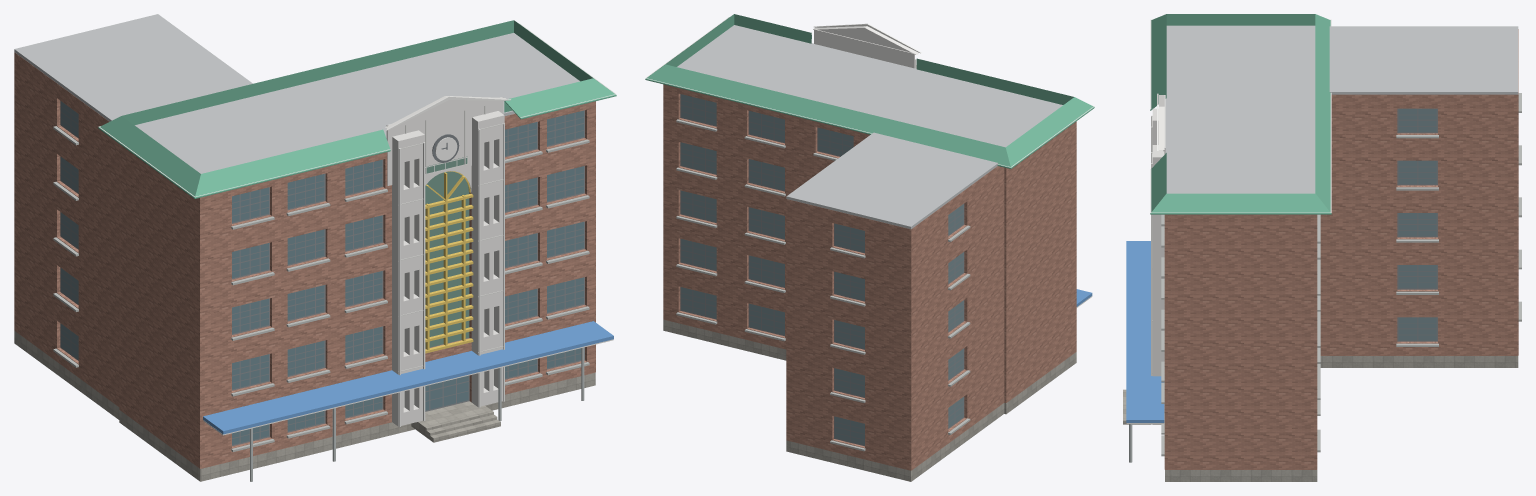
The picture shows the model from 3 angles, left to right: view 1: azimuth 30°, elevation 25°; view 2: azimuth 150°, elevation 25°; view 3: azimuth 270°, elevation 25°; orthographic projection. The views are drawn at different scales.
Visible parts, largest first — view 1: main__brick, main__roof, main__glass, main__panel, main__canopy, main__frame, main__blue, main__stone, main__cap, main__sill, main__yellow, main__clerestoryglass (+5 smaller); view 2: main__brick, main__roof, main__sideglass, main__canopy, main__frame, main__stone, main__sill, main__panel, main__cap; view 3: main__brick, main__roof, main__canopy, main__blue, main__sideglass, main__stone, main__sill, main__panel, main__frame, main__cap.
Boxes of the visible parts, x1=… form: main__brick: x1=14, y1=52, x2=595, y2=468; main__roof: x1=14, y1=14, x2=579, y2=173; main__glass: x1=232, y1=110, x2=583, y2=444; main__panel: x1=385, y1=96, x2=505, y2=426; main__canopy: x1=98, y1=20, x2=616, y2=198; main__frame: x1=60, y1=101, x2=584, y2=446; main__blue: x1=203, y1=321, x2=613, y2=434; main__stone: x1=14, y1=331, x2=595, y2=481; main__cap: x1=98, y1=24, x2=616, y2=435; main__sill: x1=53, y1=126, x2=589, y2=451; main__yellow: x1=425, y1=171, x2=473, y2=353; main__clerestoryglass: x1=425, y1=156, x2=469, y2=348; main__brick: x1=663, y1=84, x2=1076, y2=470; main__roof: x1=677, y1=25, x2=1062, y2=229; main__sideglass: x1=681, y1=94, x2=963, y2=445; main__canopy: x1=645, y1=14, x2=1094, y2=168; main__frame: x1=680, y1=94, x2=964, y2=446; main__stone: x1=663, y1=319, x2=1076, y2=481; main__sill: x1=676, y1=119, x2=970, y2=451; main__panel: x1=813, y1=26, x2=918, y2=68; main__cap: x1=645, y1=17, x2=1094, y2=307; main__brick: x1=1164, y1=29, x2=1518, y2=469; main__roof: x1=1165, y1=25, x2=1518, y2=193; main__canopy: x1=1150, y1=14, x2=1331, y2=214; main__blue: x1=1126, y1=241, x2=1164, y2=422; main__sideglass: x1=1398, y1=108, x2=1436, y2=340; main__stone: x1=1165, y1=356, x2=1518, y2=481; main__sill: x1=1161, y1=93, x2=1521, y2=456; main__panel: x1=1152, y1=95, x2=1165, y2=424; main__frame: x1=1397, y1=108, x2=1437, y2=341; main__cap: x1=1126, y1=19, x2=1331, y2=424.
Bounding box in the file's own units: 27 × 20.08 × 23.57.
18 materials, 2 textured.
